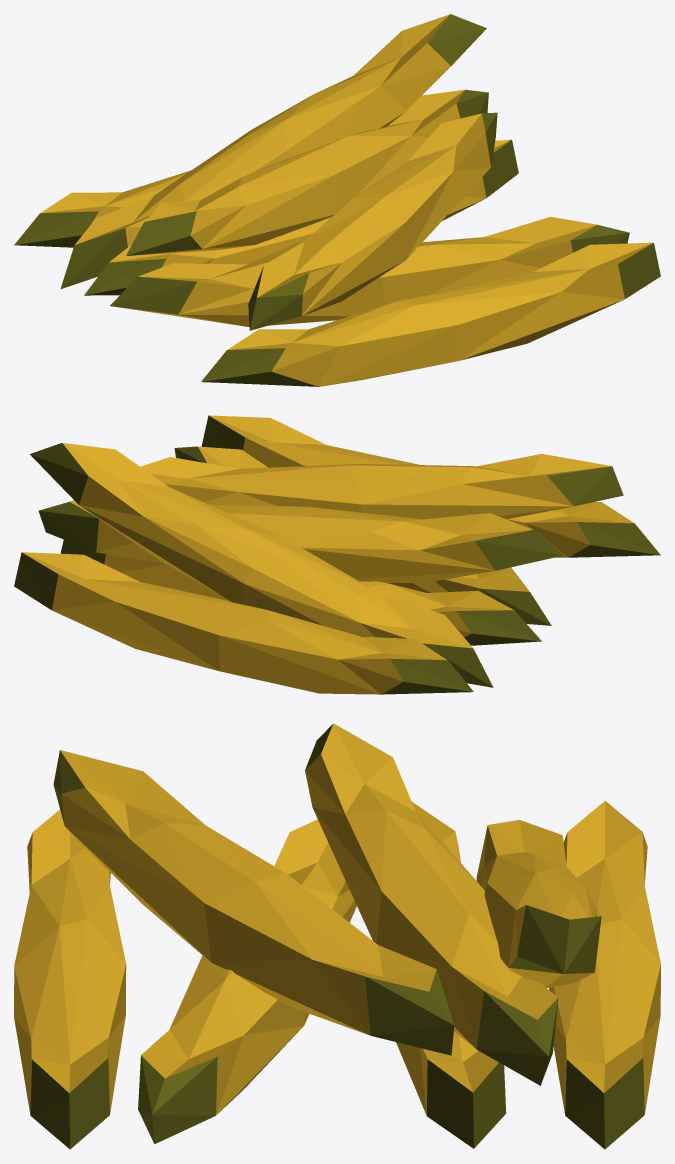
File: Pile of Bananas.fbx
3 views of the same model, one above another, from view 1: azimuth 30°, elevation 25°; view 2: azimuth 150°, elevation 25°; view 3: azimuth 270°, elevation 25° (orthographic). The views are drawn at different scales.
Parts seen in each view (by area): view 1: Pile of Bananas; view 2: Pile of Bananas; view 3: Pile of Bananas.
Part boxes in pixels (x1,y1,x2,y2): Pile of Bananas: [14, 14, 660, 386]; Pile of Bananas: [14, 415, 660, 694]; Pile of Bananas: [14, 723, 660, 1149].
Bounding box in the file's own units: 20.68 × 7.46 × 17.61.
